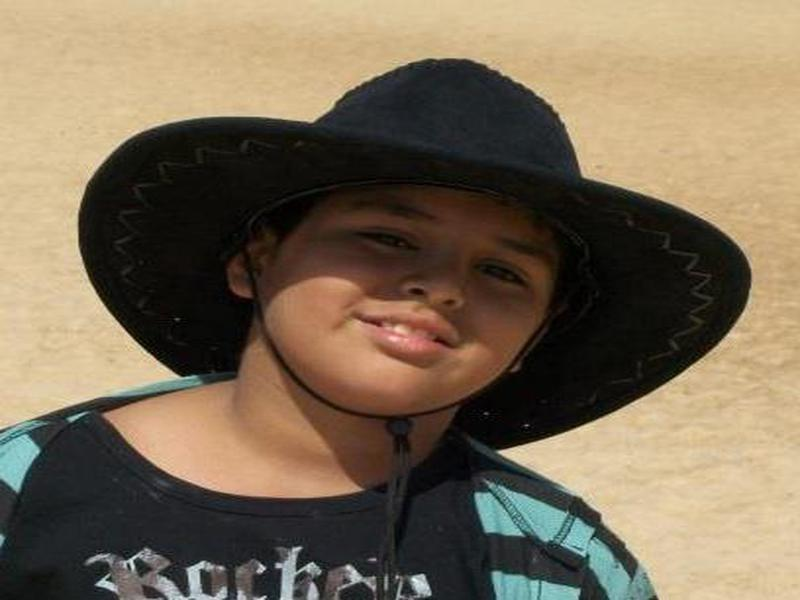without_mask: (289, 187, 557, 410)
